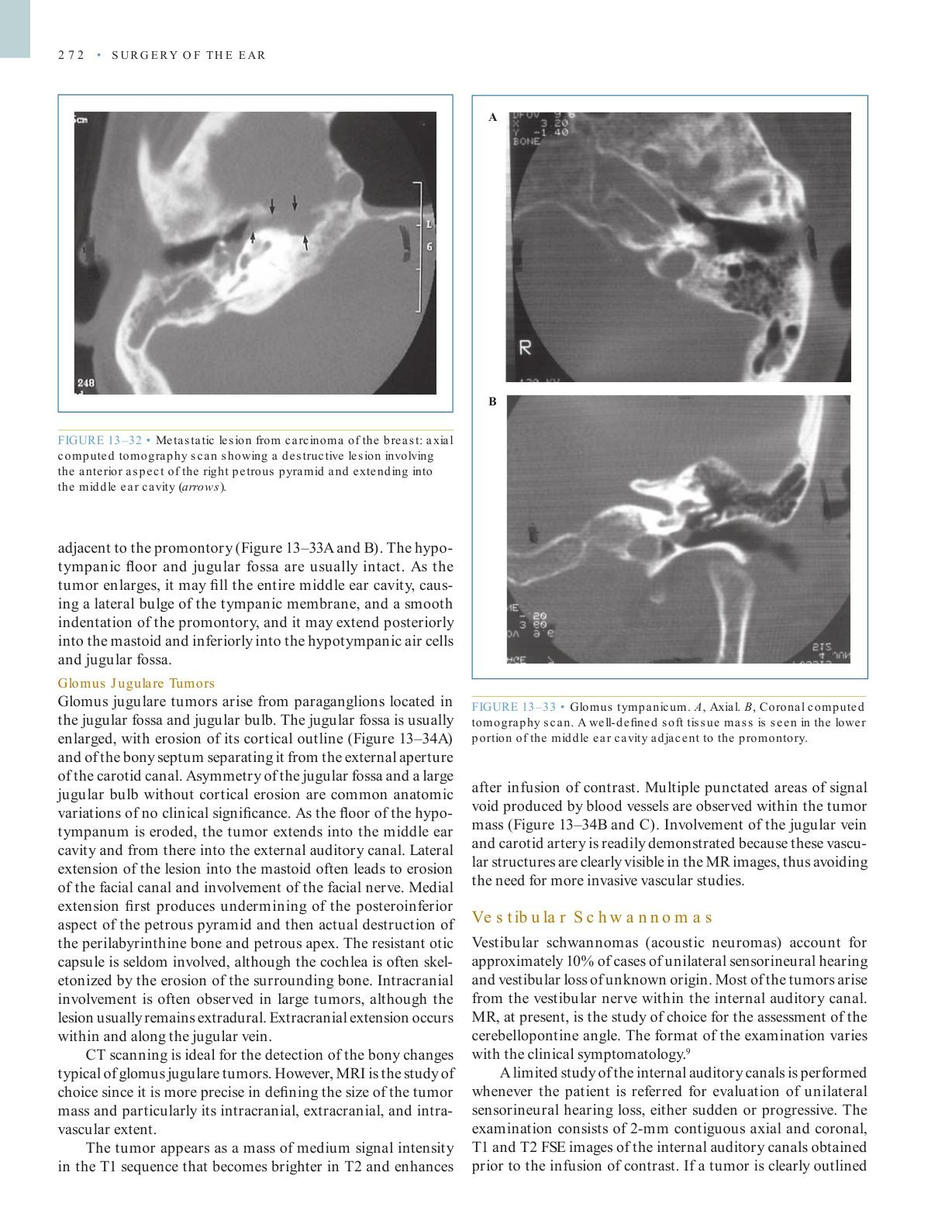caption: (56, 433, 454, 494), (470, 700, 868, 746), (487, 111, 499, 123), (487, 395, 498, 407)
header: (110, 48, 266, 61)
image: (72, 110, 438, 396), (505, 111, 853, 383), (505, 394, 851, 665)
section-heading: (469, 904, 718, 925)
sub-section-heading: (56, 673, 217, 692)
text: (56, 693, 456, 1178), (468, 931, 870, 1177), (56, 536, 459, 668), (468, 776, 871, 889)
